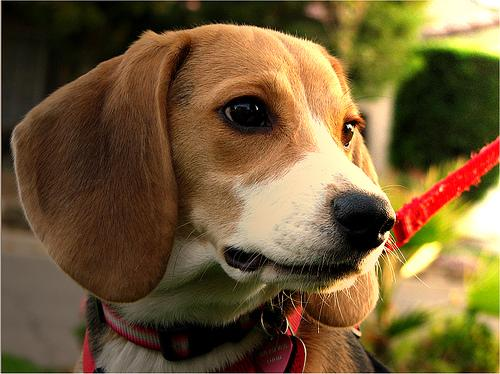dog: (10, 23, 393, 325)
